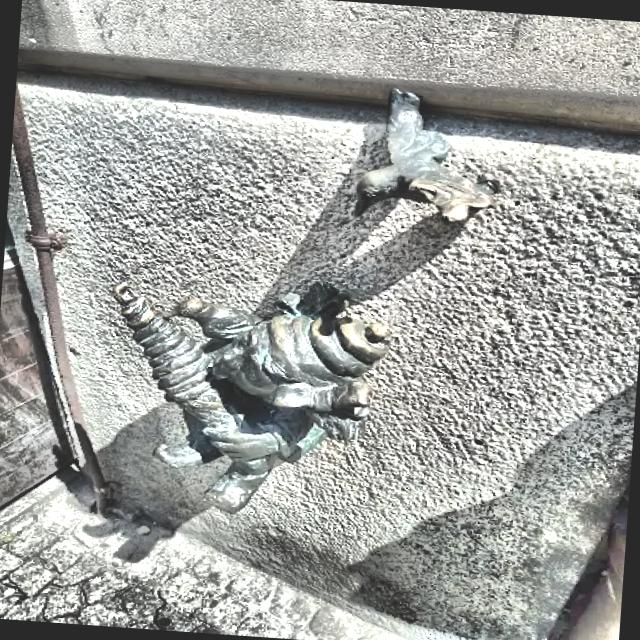Dziupelka: (113, 283, 395, 515), (354, 89, 488, 223)
